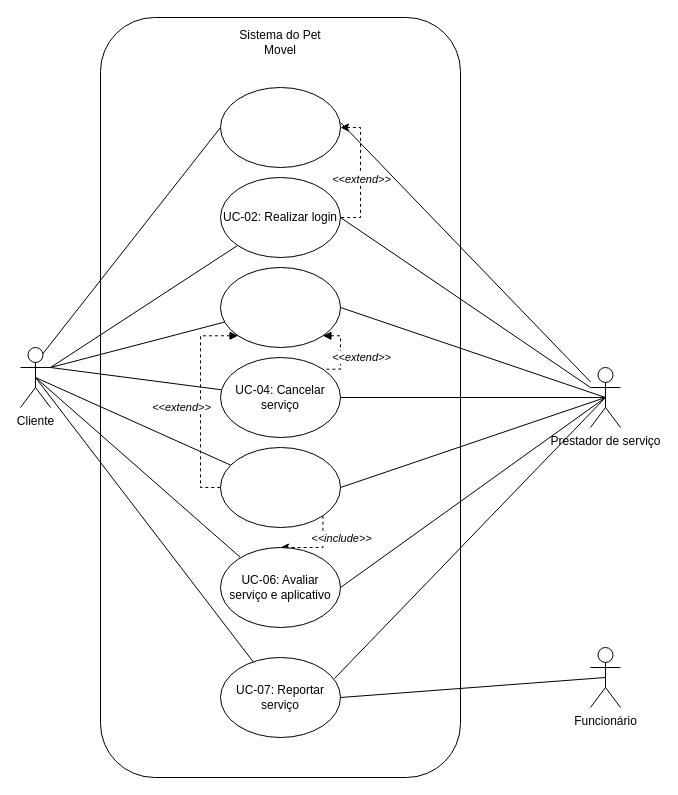
Image size: 678x795. Some labels were removed from this diagram. The centre of each missing label's shape, as x and y in pixels:
"UC-01: Realizar cadastro" goes at [280,127].
"UC-03: Solicitar serviço" goes at [280,307].
"UC-05: Pagar serviço" goes at [280,487].
